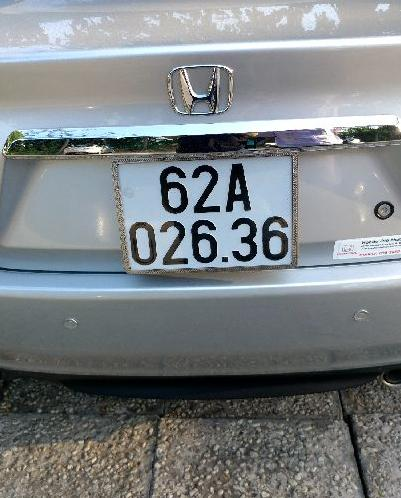Plate-iWeP: (118, 157, 297, 272)
